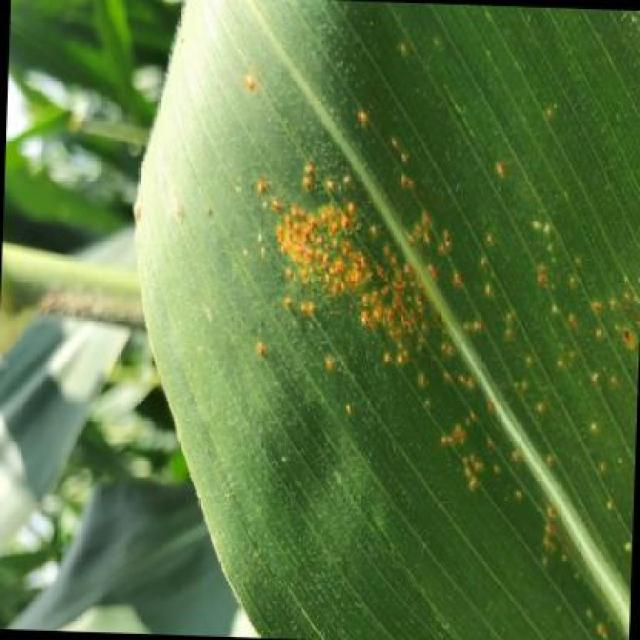Corn_Rust: (168, 8, 612, 627)
